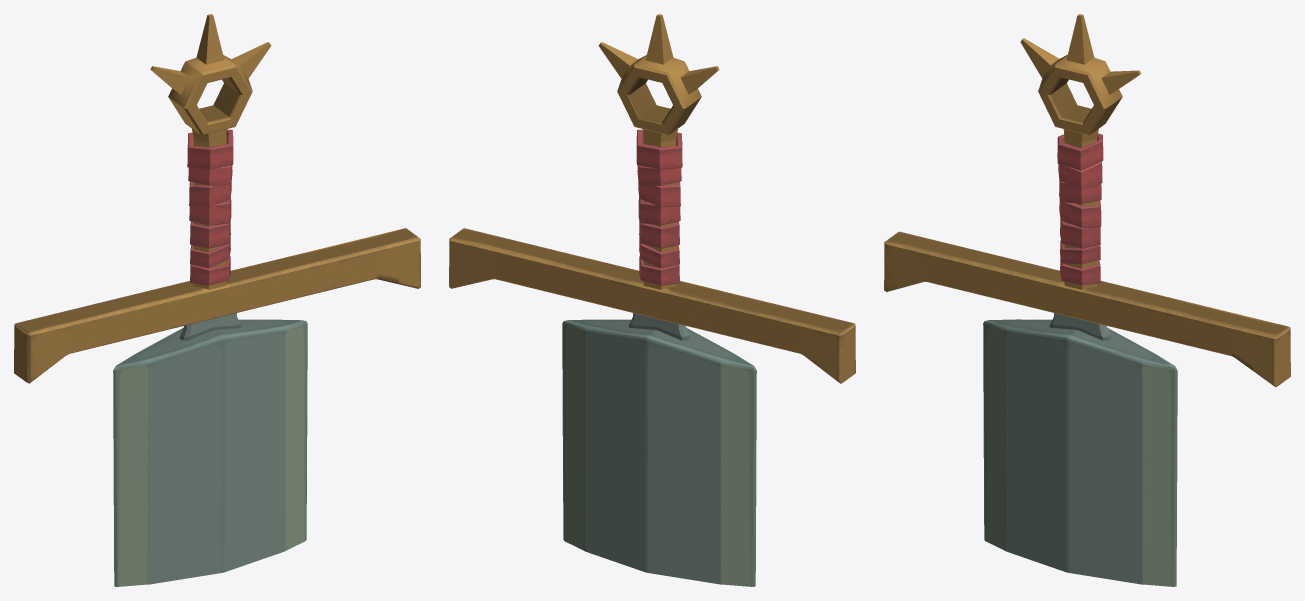
The model's file is Epee_msh.fbx.
3 views of the same model, side by side, from view 1: azimuth 30°, elevation 25°; view 2: azimuth 150°, elevation 25°; view 3: azimuth 330°, elevation 25° (orthographic).
Parts seen in each view (by area): view 1: Epee_msh; view 2: Epee_msh; view 3: Epee_msh.
Part boxes in pixels (left/top/right/bottom): Epee_msh: left=14, top=14, right=420, bottom=586; Epee_msh: left=449, top=14, right=855, bottom=586; Epee_msh: left=884, top=14, right=1290, bottom=586.
Size of the model in its own units: 104 by 138 by 11.87.
Materials: 1 (1 with a texture image).
